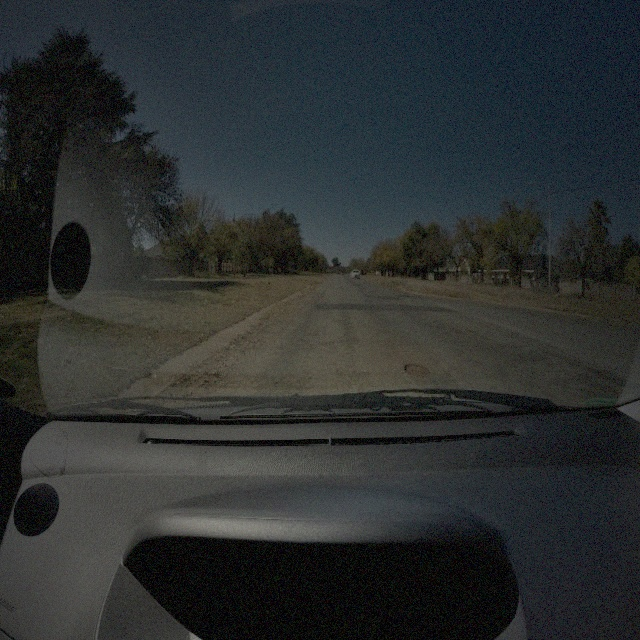pothole: (402, 359, 429, 378)
